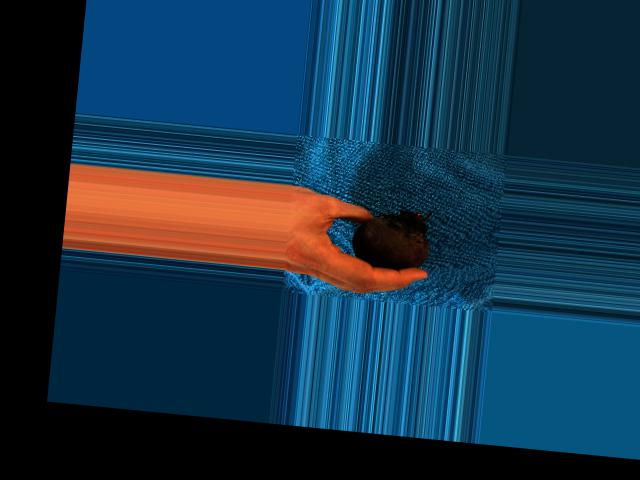beet: (351, 204, 432, 271)
